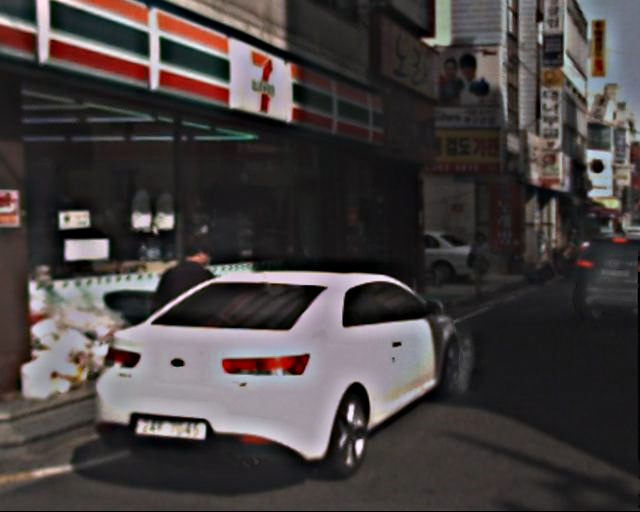person: (163, 233, 222, 376), (463, 227, 508, 299)
